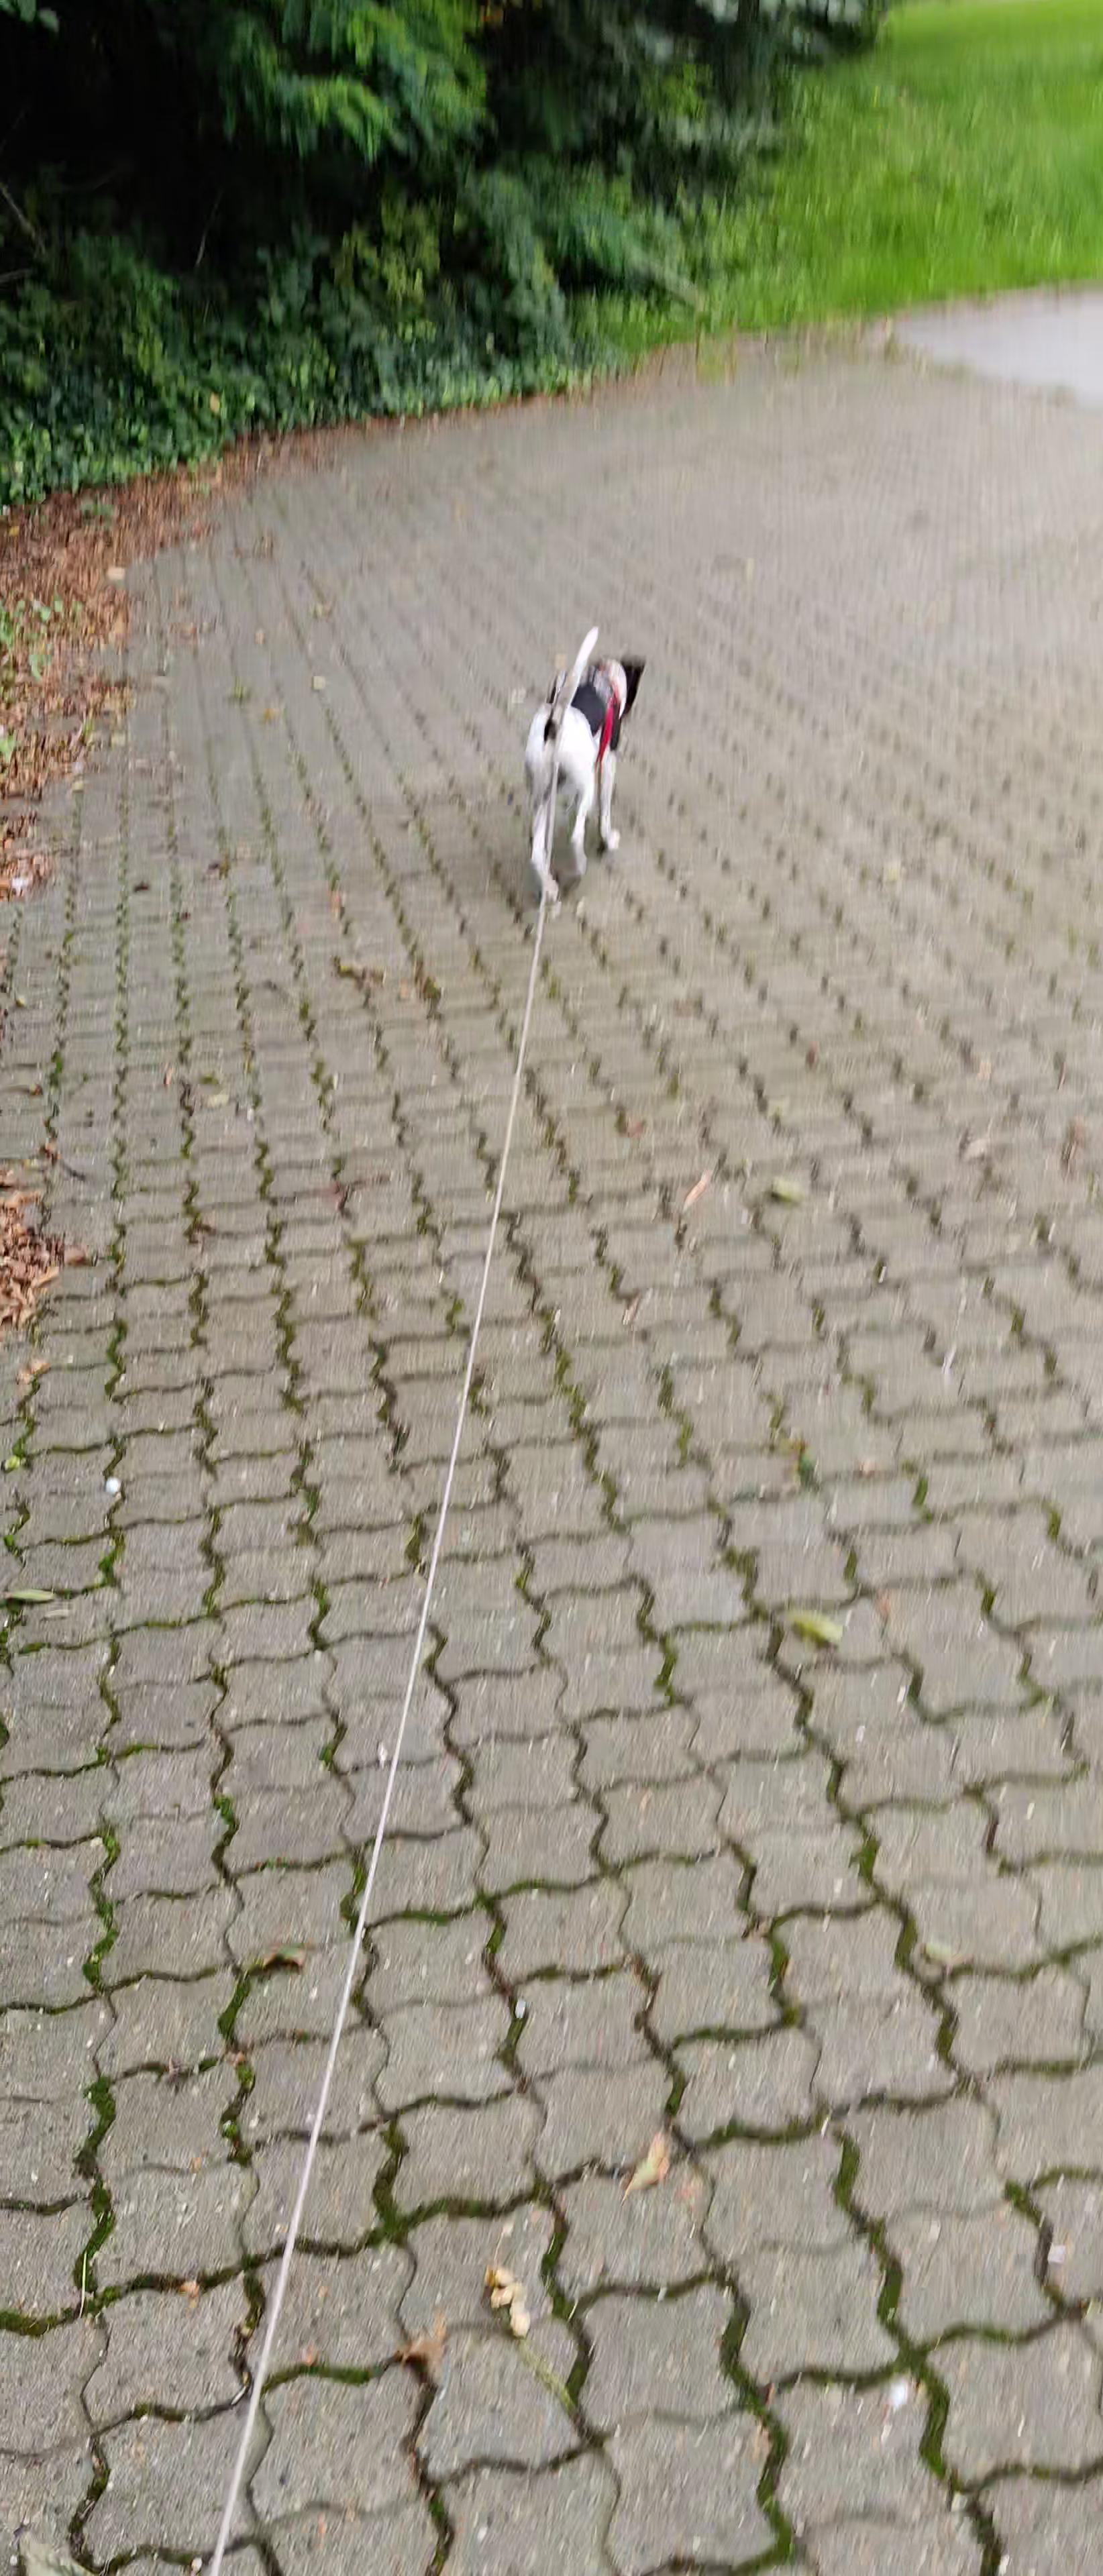Dog: (519, 621, 653, 912)
